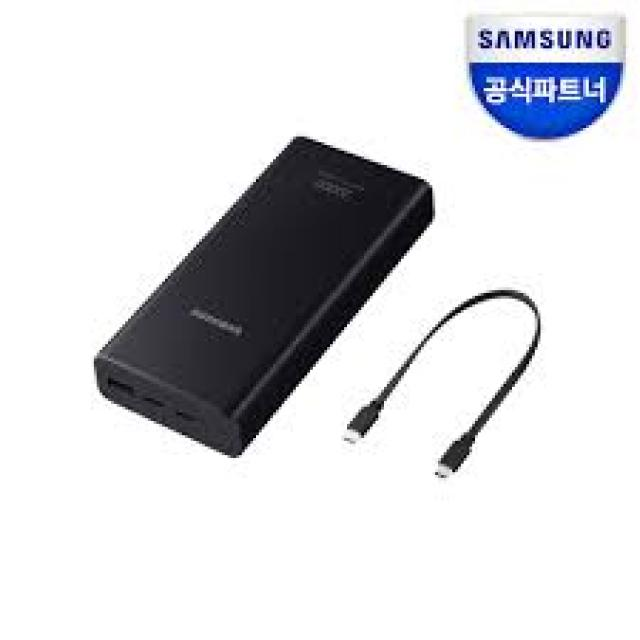portable-charger: (87, 135, 440, 458)
